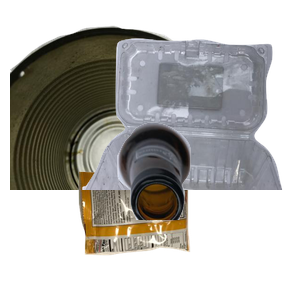glass: (115, 120, 300, 300)
metal: (10, 23, 250, 203)
plastic: (80, 36, 300, 216)
trash: (76, 159, 259, 300)
